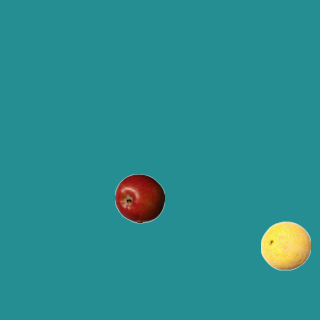Apple Braeburn: (114, 173, 164, 223)
Cantaloupe 1: (260, 220, 310, 270)
